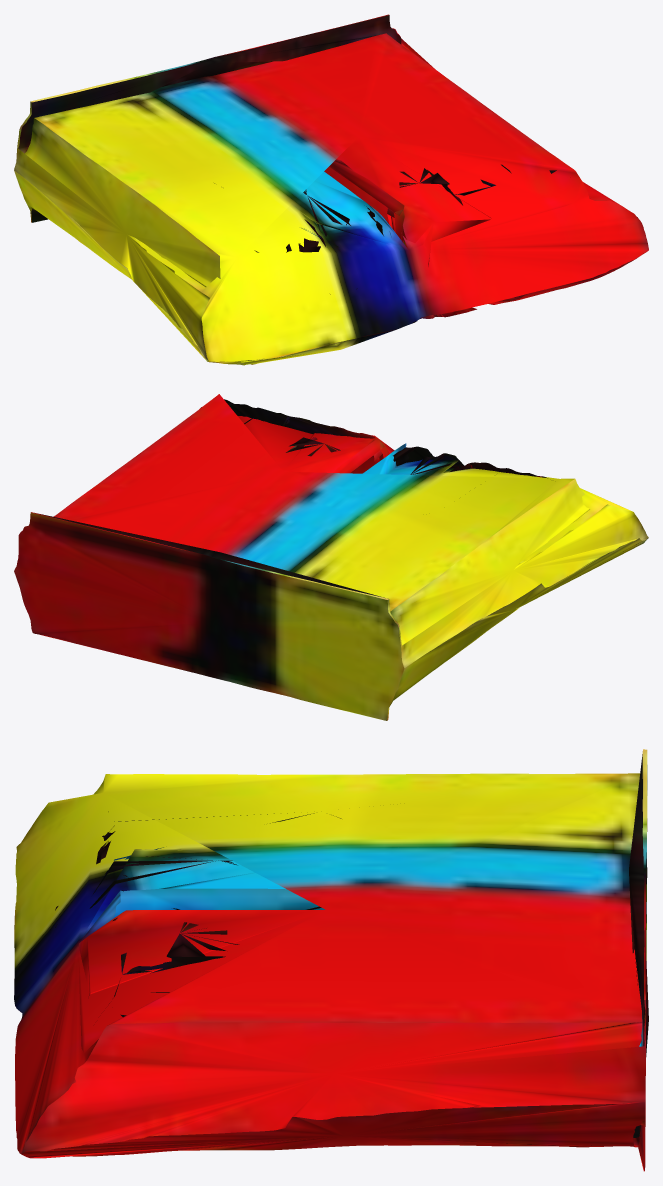
3 views of the same model, one above another, from view 1: azimuth 30°, elevation 25°; view 2: azimuth 150°, elevation 25°; view 3: azimuth 270°, elevation 25° (orthographic). The views are drawn at different scales.
Parts seen in each view (by area): view 1: world; view 2: world; view 3: world.
Part boxes in pixels (x1,y1,x2,y2): world: [14, 14, 648, 365]; world: [14, 394, 648, 720]; world: [14, 749, 648, 1171].
Bounding box in the file's own units: 0.2905 × 0.0789 × 0.2514.
1 material, 1 textured.
